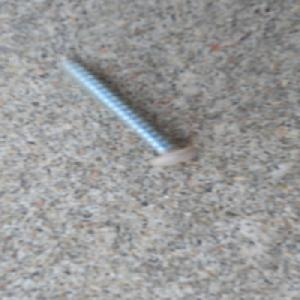Screw: (54, 52, 198, 167)
